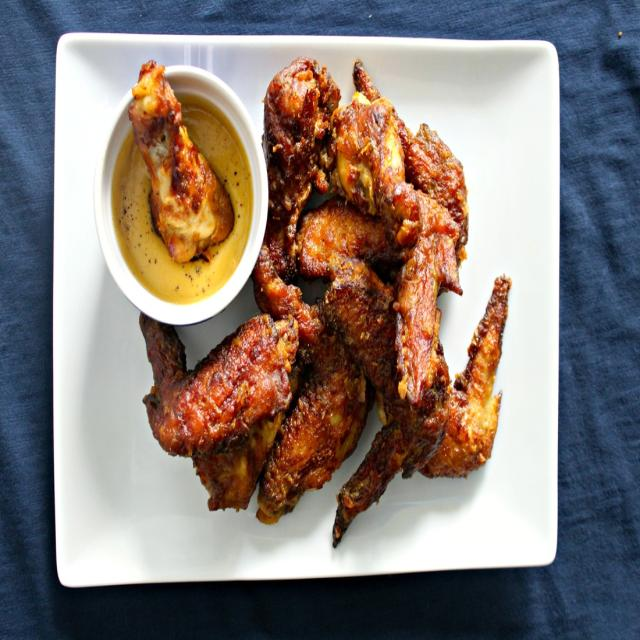Frango: (127, 61, 240, 270)
